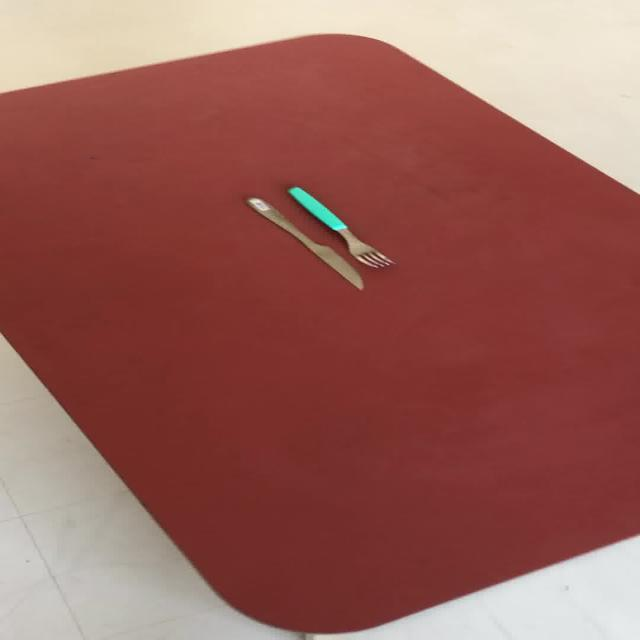fork: (285, 185, 395, 268)
knife fork: (243, 196, 364, 291)
